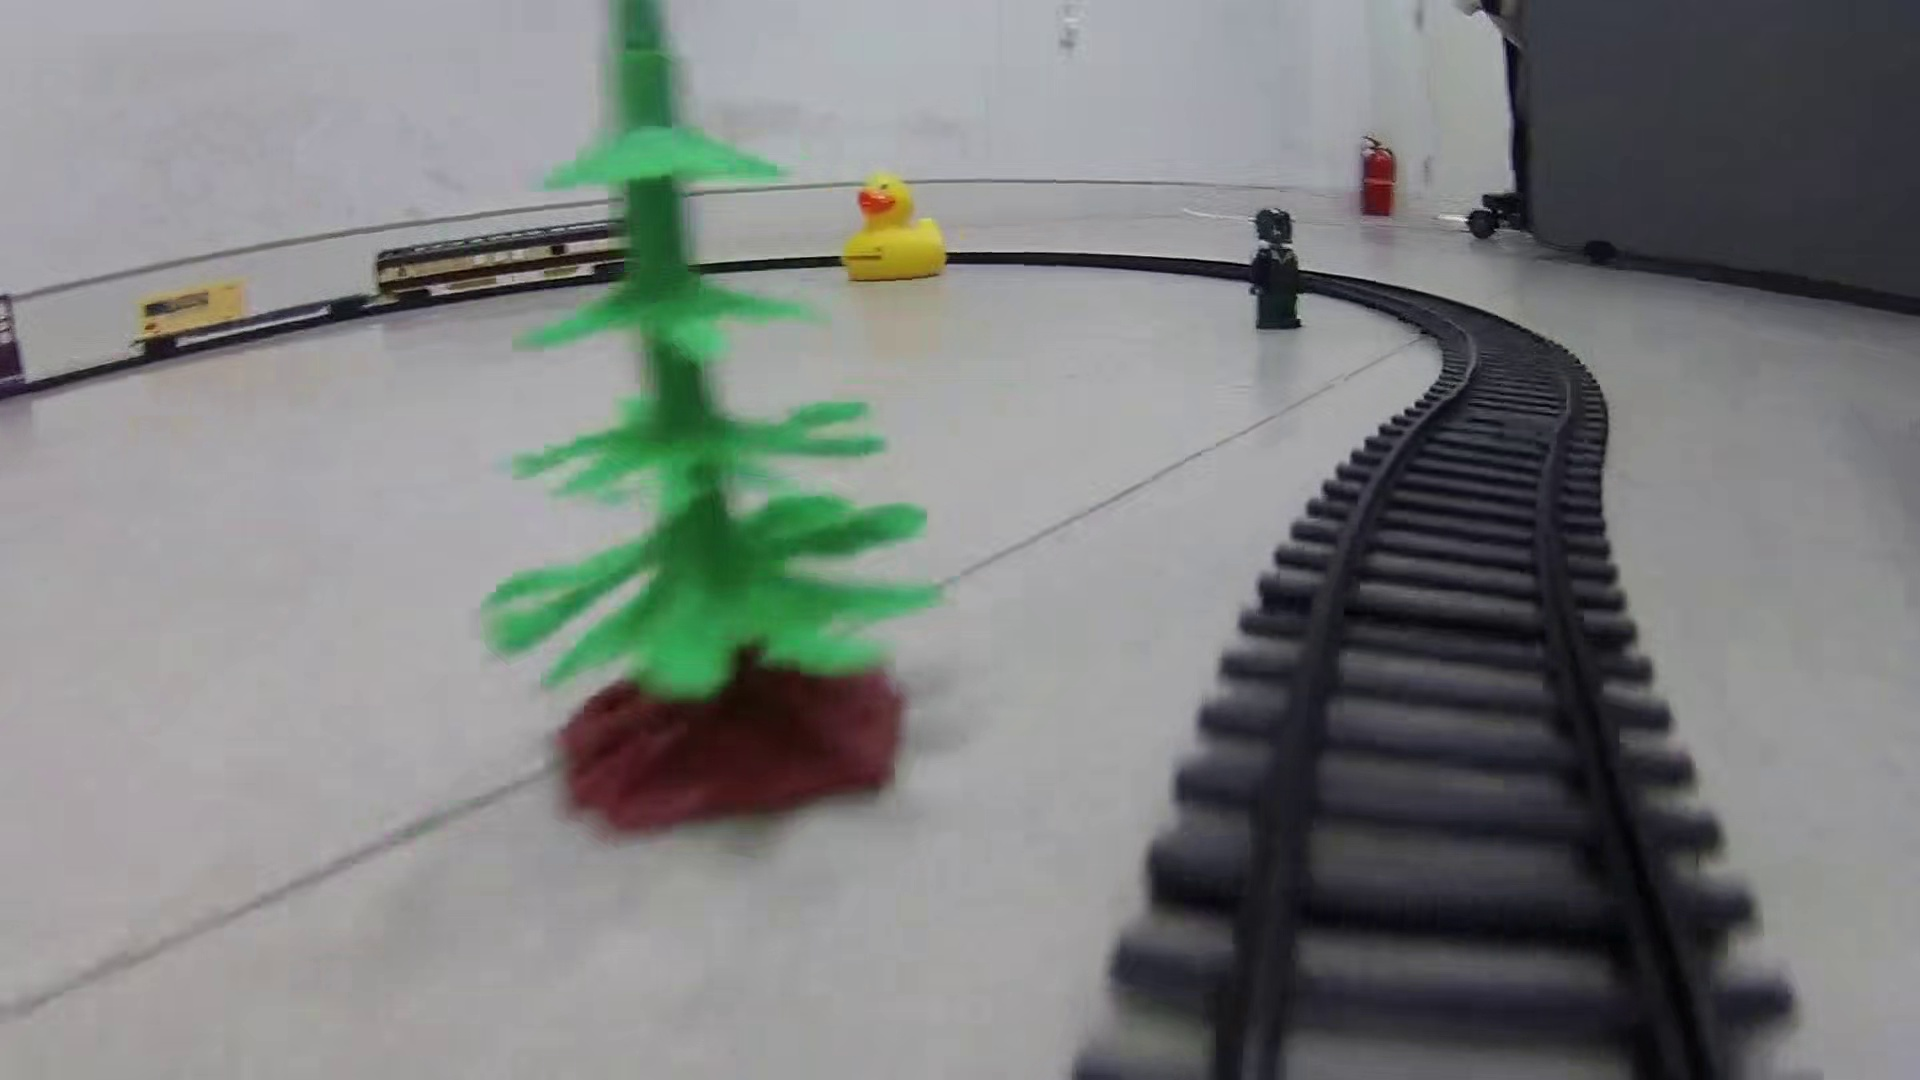people: (1247, 206, 1309, 335)
tree: (479, 1, 944, 837)
